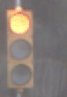Red: (2, 6, 39, 97)
